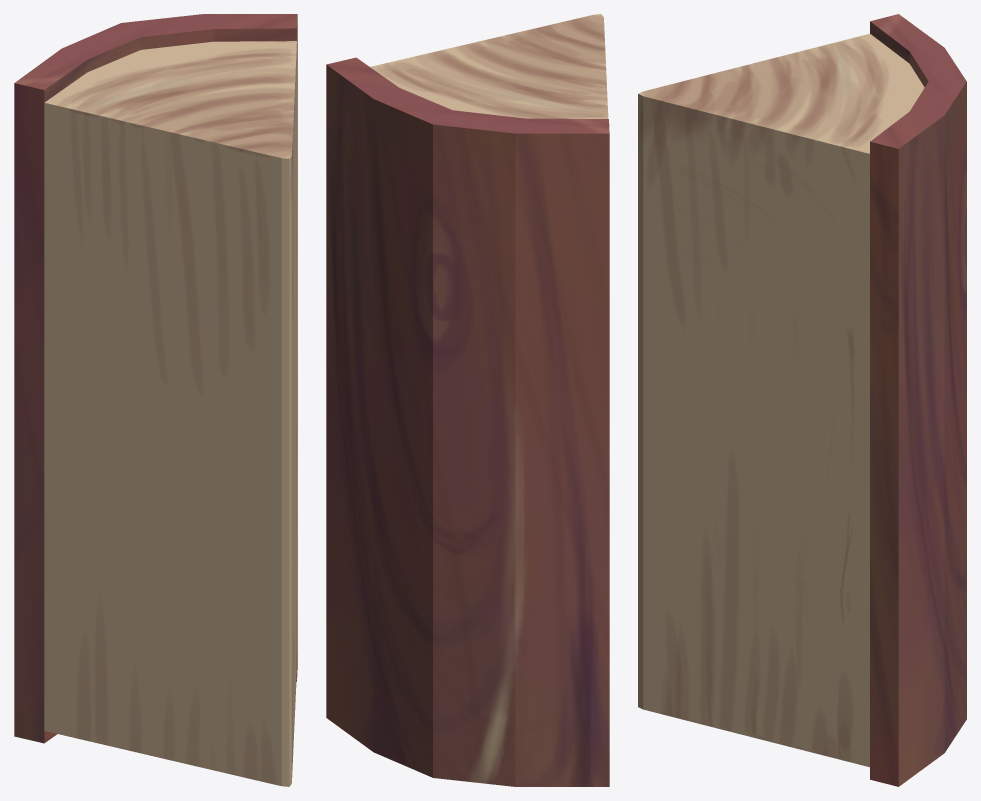
File: SmallLog.fbx
The picture shows the model from 3 angles, left to right: view 1: azimuth 30°, elevation 25°; view 2: azimuth 150°, elevation 25°; view 3: azimuth 270°, elevation 25°; orthographic projection. The views are drawn at different scales.
Visible parts, largest first — view 1: Cube.009; view 2: Cube.009; view 3: Cube.009.
Boxes of the visible parts, bbox=[...] form: Cube.009: bbox=[14, 14, 297, 786]; Cube.009: bbox=[326, 14, 609, 786]; Cube.009: bbox=[638, 14, 966, 786].
Bounding box in the file's own units: 200 × 441 × 206.
